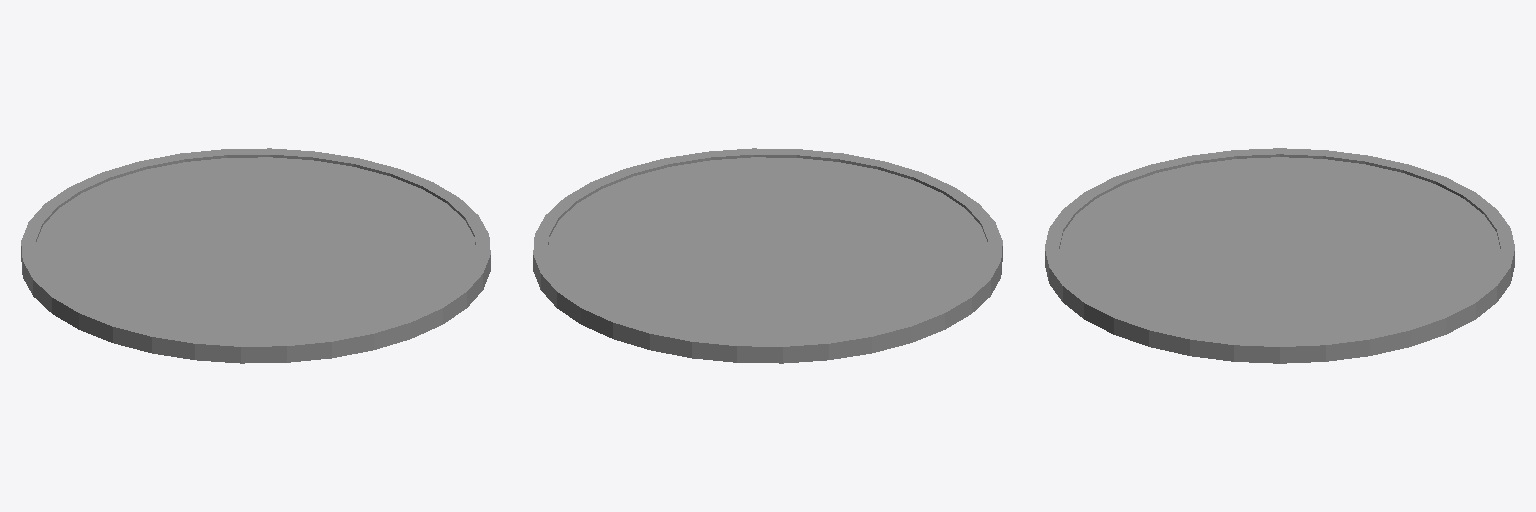
Rendered from Manhole.obj.
3 views of the same model, side by side, from view 1: azimuth 30°, elevation 25°; view 2: azimuth 150°, elevation 25°; view 3: azimuth 270°, elevation 25° (orthographic).
Parts seen in each view (by area): view 1: Manhole; view 2: Manhole; view 3: Manhole.
Boxes of the visible parts, <box> form: Manhole: <box>21,148,490,363</box>; Manhole: <box>533,148,1002,363</box>; Manhole: <box>1045,148,1514,363</box>.
Bounding box in the file's own units: 0.7465 × 0.0291 × 0.7465.